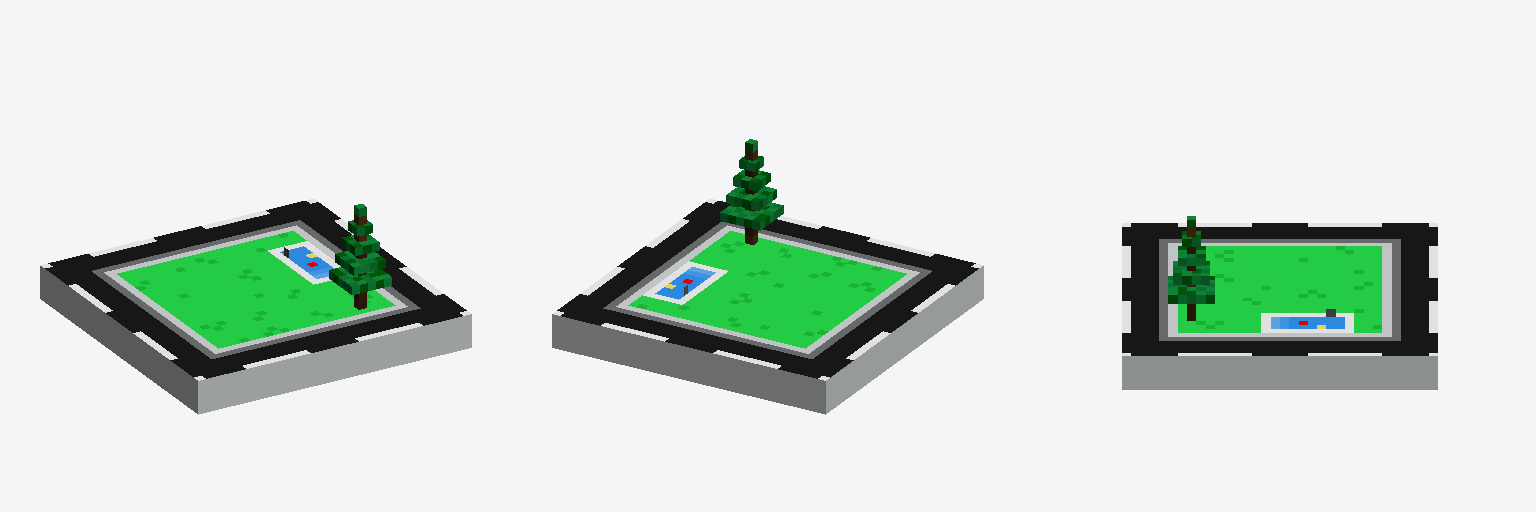
The picture shows the model from 3 angles: view 1: azimuth 30°, elevation 25°; view 2: azimuth 150°, elevation 25°; view 3: azimuth 270°, elevation 25°; orthographic projection.
Parts seen in each view (by area): view 1: cube; view 2: cube; view 3: cube.
Part boxes in pixels (x1,y1,x2,y2): cube: (40, 199, 471, 414); cube: (552, 139, 983, 414); cube: (1122, 216, 1437, 389).
Size of the model in its own units: 1 by 0.4706 by 1.
Materials: 1 (1 with a texture image).